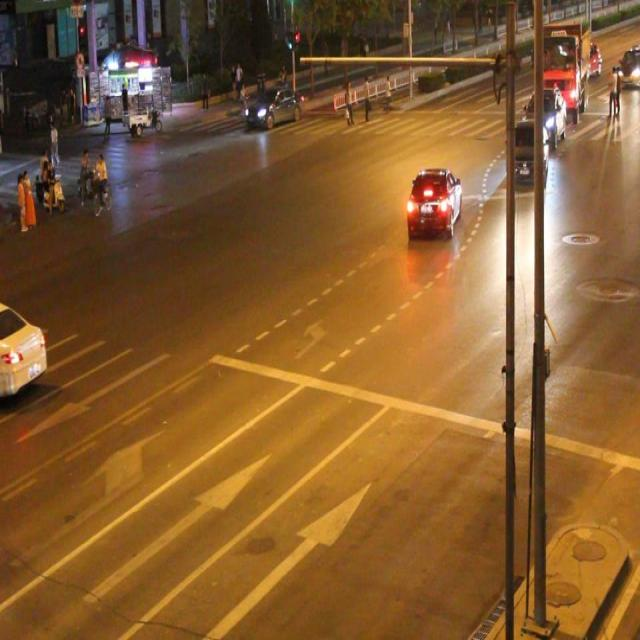car: (1, 303, 48, 396), (404, 167, 461, 241), (506, 122, 546, 186)
